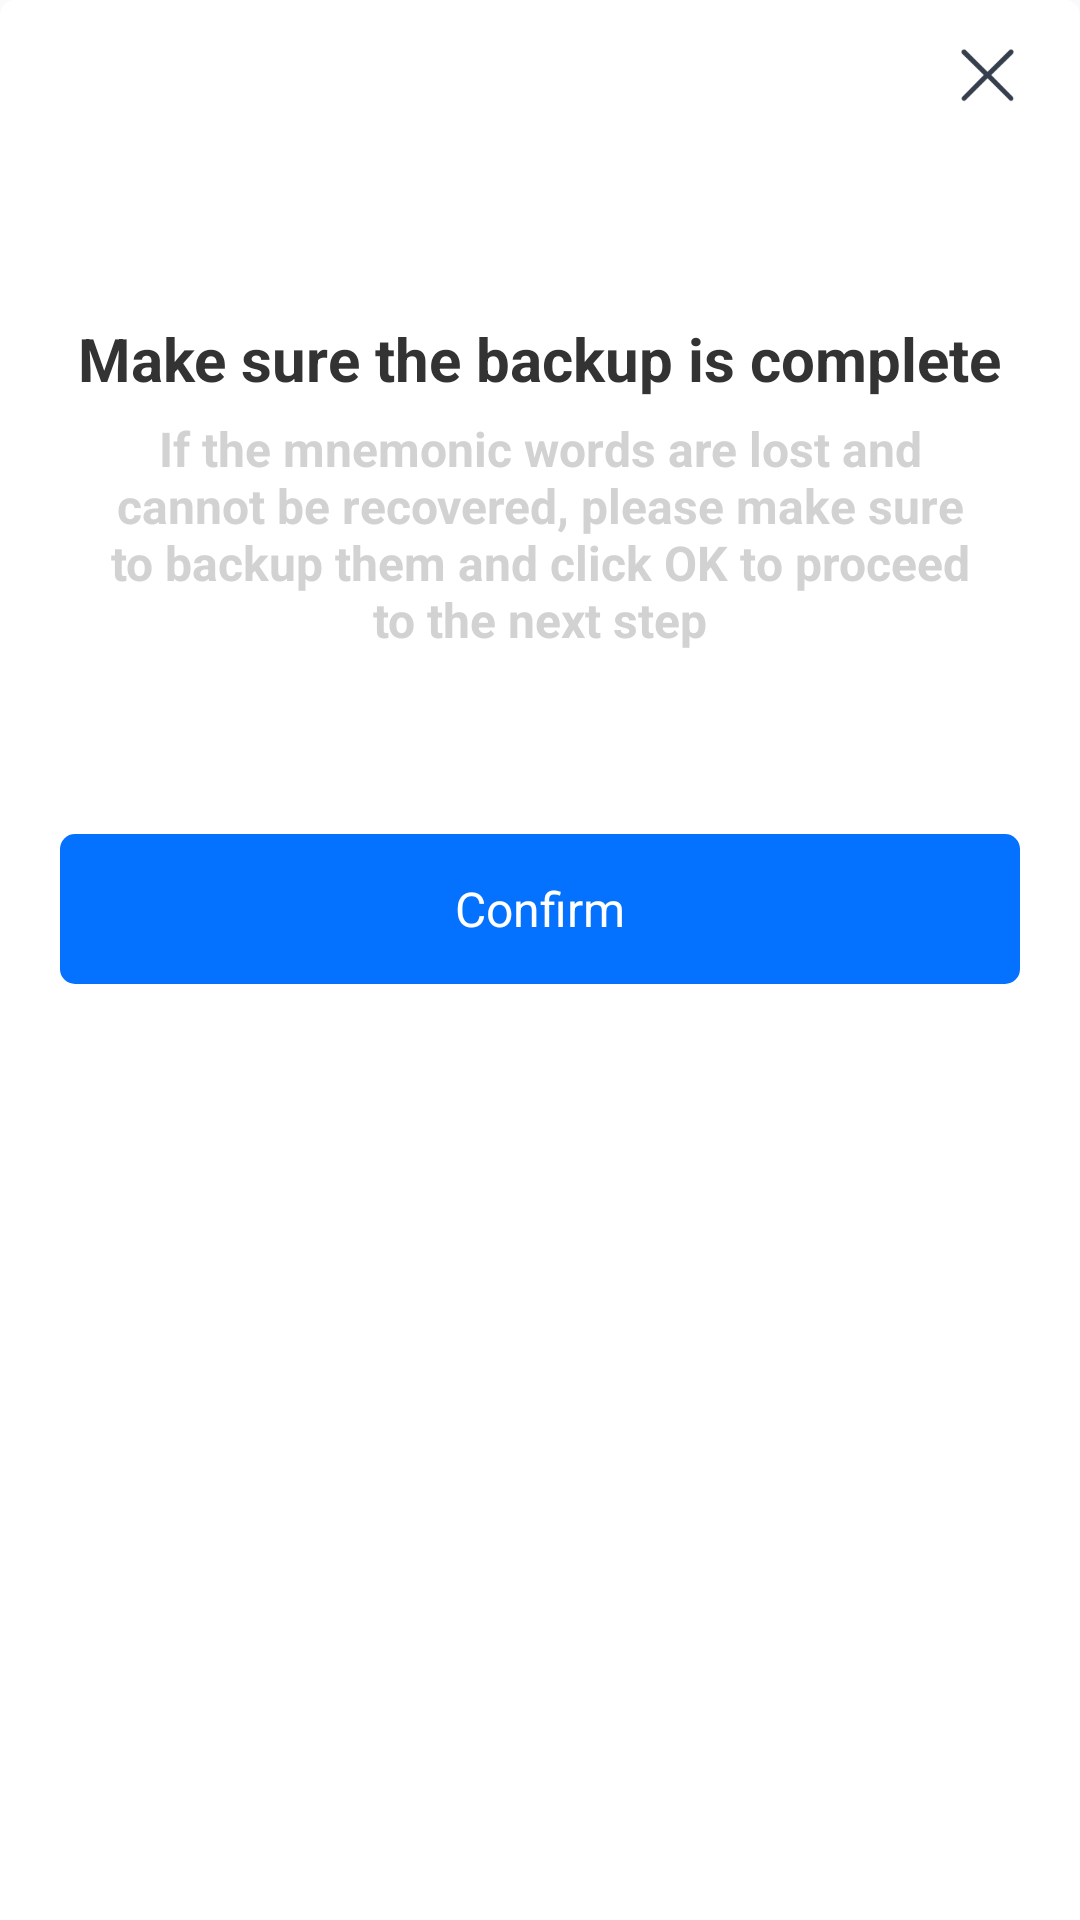

Icons on this 1080 × 1920 Android screen, each with the point to tap as (x,y):
close: (987,75)
